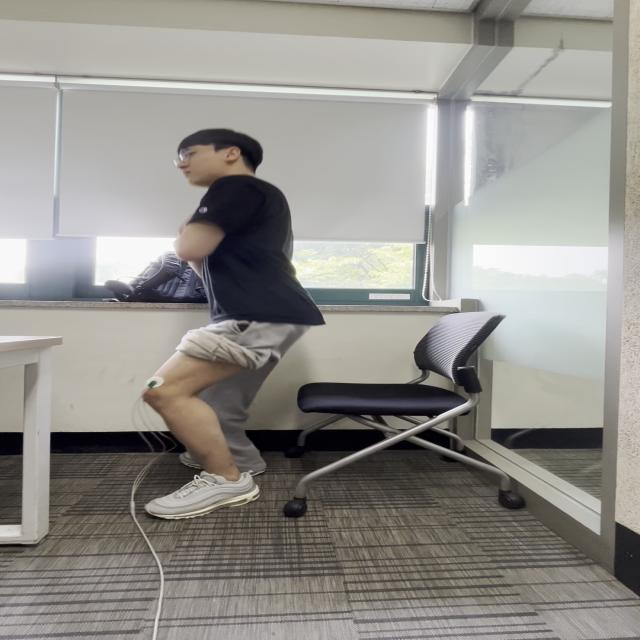stand: (124, 312, 300, 514), (168, 190, 325, 413)
